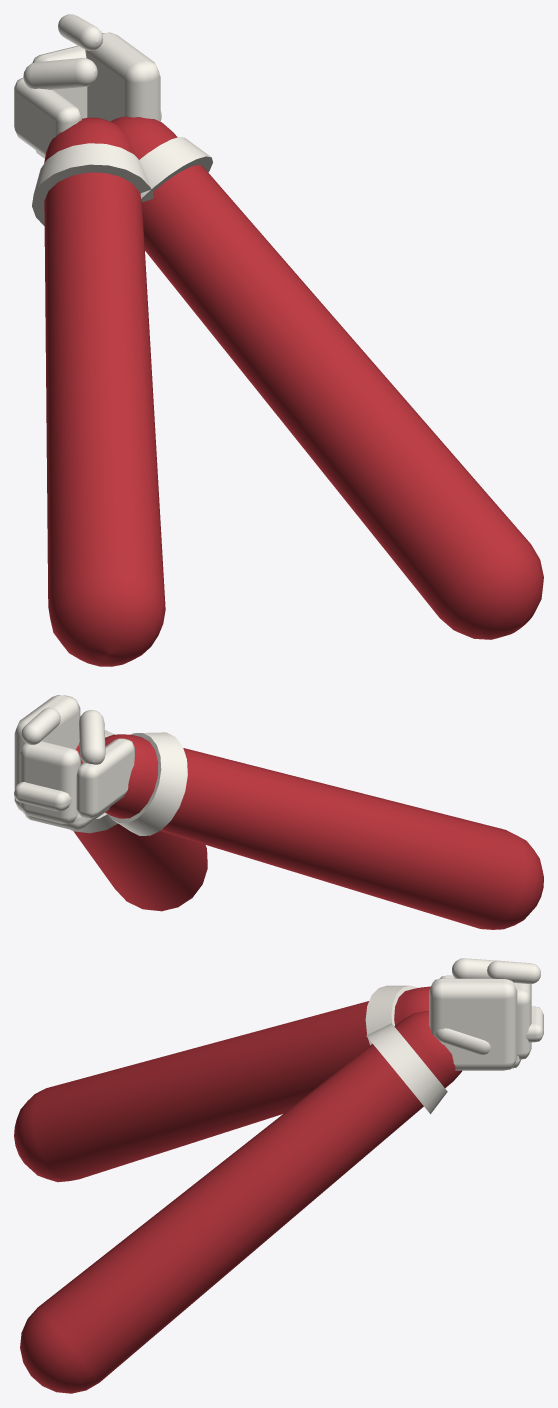
The model's file is needle.glb.
3 renders of one model, top to bottom at view 1: azimuth 30°, elevation 25°; view 2: azimuth 150°, elevation 25°; view 3: azimuth 270°, elevation 25°, orthographic. The views are drawn at different scales.
Visible parts, largest first — view 1: forearm_R, forearm_L, palm_R, cuff_L, fingers_L, cuff_R, thumb_R, trigger_finger_R, fingers_R; view 2: forearm_L, forearm_R, cuff_L, fingers_R, fingers_L, palm_R, thumb_R, knuckles_R, trigger_finger_R, cuff_R, palm_L; view 3: forearm_R, forearm_L, palm_R, cuff_R, cuff_L, fingers_R, trigger_finger_R, thumb_L, thumb_R.
Boxes of the visible parts, box(x1,y1,x2,y2) form: forearm_R: box(110, 116, 543, 639); forearm_L: box(44, 117, 165, 666); palm_R: box(85, 32, 160, 121); cuff_L: box(32, 143, 154, 225); fingers_L: box(14, 78, 81, 156); cuff_R: box(139, 137, 212, 202); thumb_R: box(23, 58, 97, 89); trigger_finger_R: box(58, 14, 103, 50); fingers_R: box(32, 45, 87, 118); forearm_L: box(105, 734, 543, 929); forearm_R: box(73, 742, 207, 911); cuff_L: box(108, 732, 187, 835); fingers_R: box(19, 741, 80, 824); fingers_L: box(76, 738, 134, 818); palm_R: box(14, 695, 80, 811); thumb_R: box(79, 710, 105, 764); knuckles_R: box(14, 782, 71, 811); trigger_finger_R: box(21, 707, 60, 744); cuff_R: box(70, 730, 117, 833); palm_L: box(25, 807, 109, 829); forearm_R: box(20, 1011, 461, 1393); forearm_L: box(14, 986, 430, 1182); palm_R: box(429, 978, 517, 1070); cuff_R: box(366, 1023, 447, 1113); cuff_L: box(365, 985, 418, 1045); fingers_R: box(514, 983, 531, 1059); trigger_finger_R: box(487, 960, 540, 983); thumb_L: box(435, 1028, 490, 1054); thumb_R: box(452, 958, 495, 978).
Bounding box in the file's own units: 0.4161 × 0.3715 × 0.4788.
